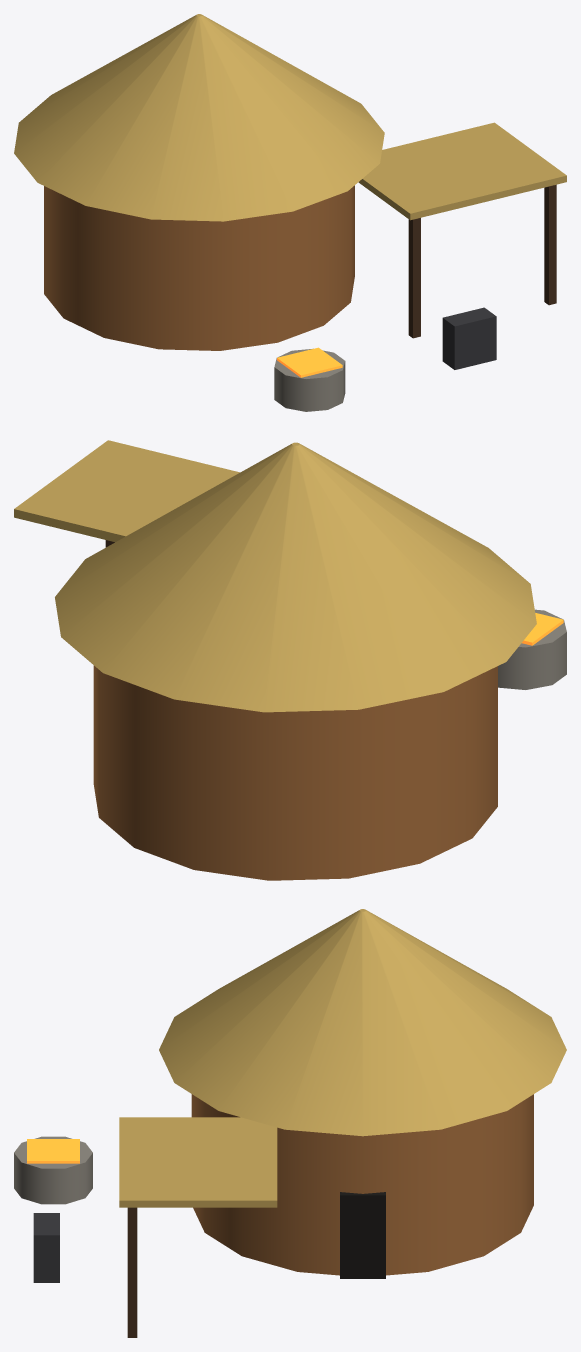
The model's file is smithy.glb.
The picture shows the model from 3 angles, top to bottom: view 1: azimuth 30°, elevation 25°; view 2: azimuth 150°, elevation 25°; view 3: azimuth 270°, elevation 25°; orthographic projection. The views are drawn at different scales.
Parts seen in each view (by area): view 1: Smithy; view 2: Smithy; view 3: Smithy.
Boxes of the visible parts, x1=… form: Smithy: x1=14, y1=14, x2=566, y2=411; Smithy: x1=14, y1=440, x2=566, y2=880; Smithy: x1=14, y1=909, x2=566, y2=1337.
Bounding box in the file's own units: 8 × 4.94 × 8.4.
